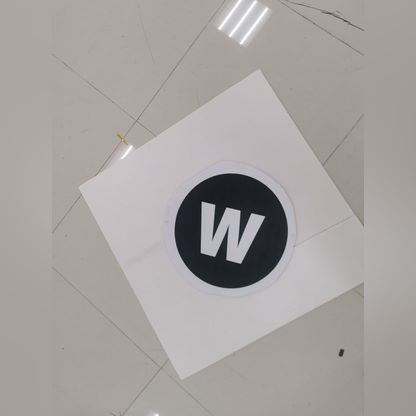W: (169, 171, 279, 268)
